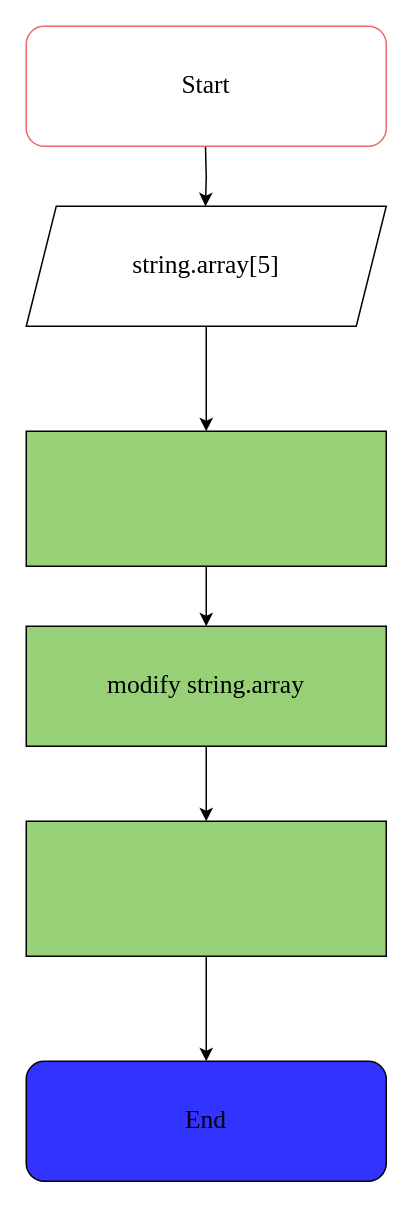
Some shapes in this 413 by 1208 pixel diagram are drawn without their labels. The shapes that lost their labels are listed below. From the top down, each one's centre as x and y in pixels, then its label:
the point at 205,498: print string.array
the point at 205,888: print modified string.array
